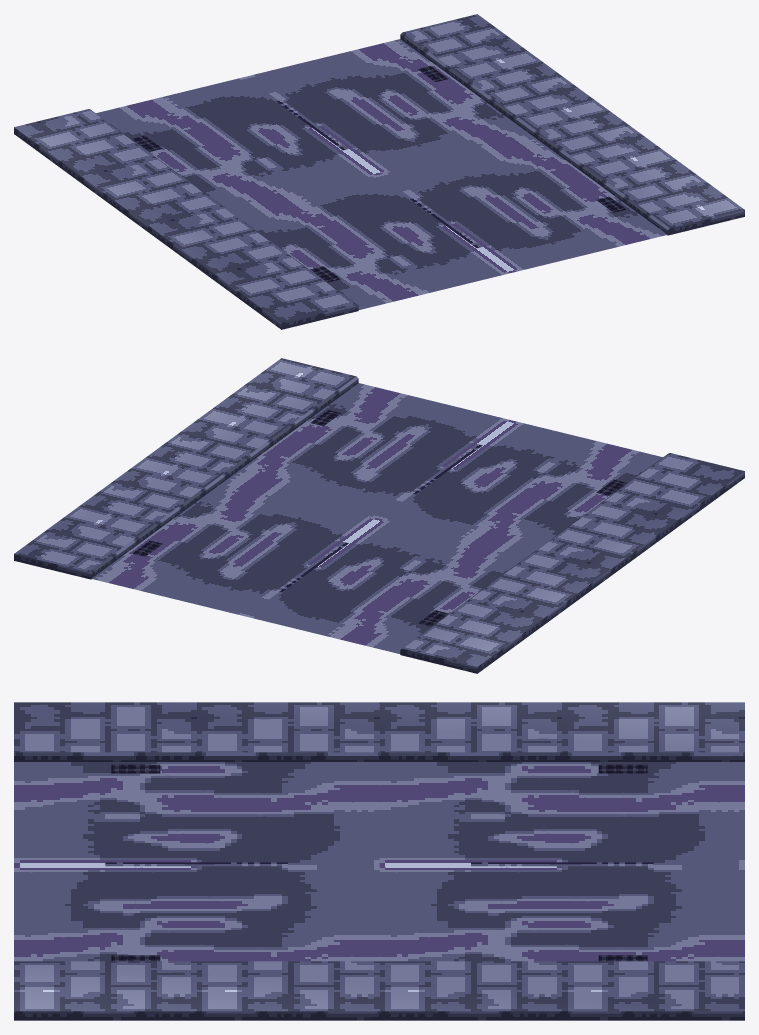
File: cystreet.road__long.glb
3 views of the same model, one above another, from view 1: azimuth 30°, elevation 25°; view 2: azimuth 150°, elevation 25°; view 3: azimuth 270°, elevation 25° (orthographic). The views are drawn at different scales.
Parts seen in each view (by area): view 1: kit_shell_road, kit_walks, kit_card_paint; view 2: kit_shell_road, kit_walks, kit_card_paint; view 3: kit_shell_road, kit_walks, kit_card_paint.
Part boxes in pixels (x1,y1,x2,y2): kit_shell_road: [96, 39, 667, 309]; kit_walks: [14, 14, 744, 329]; kit_card_paint: [132, 66, 626, 282]; kit_shell_road: [91, 383, 662, 653]; kit_walks: [14, 358, 744, 673]; kit_card_paint: [132, 410, 626, 626]; kit_shell_road: [14, 762, 744, 961]; kit_walks: [14, 702, 744, 1020]; kit_card_paint: [105, 764, 653, 961].
Size of the model in its own units: 12 by 0.17 by 12.
Materials: 5 (5 with a texture image).
